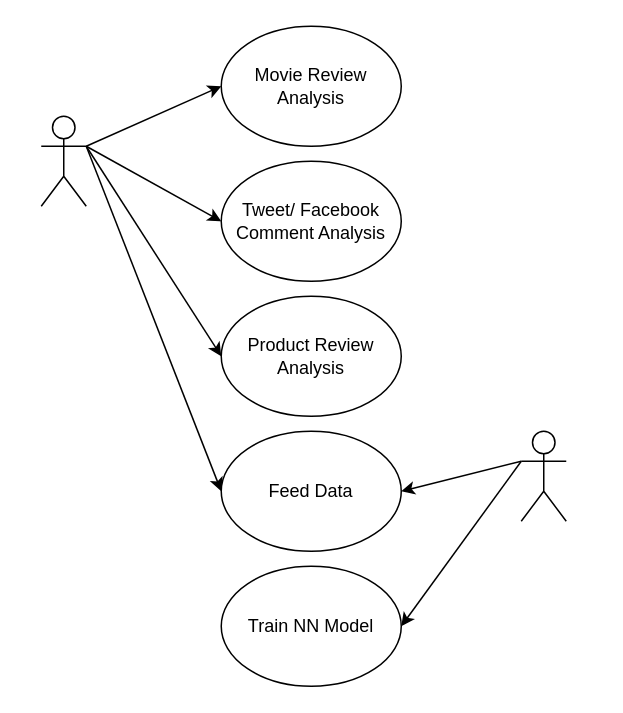
Some shapes in this 623 by 713 pixel diagram are drawn without their labels. The box of each missing label's shape, as (x1, y1, x2, y2) in pixels:
Administrator: (520, 430, 566, 521)
End-User: (40, 115, 86, 206)
